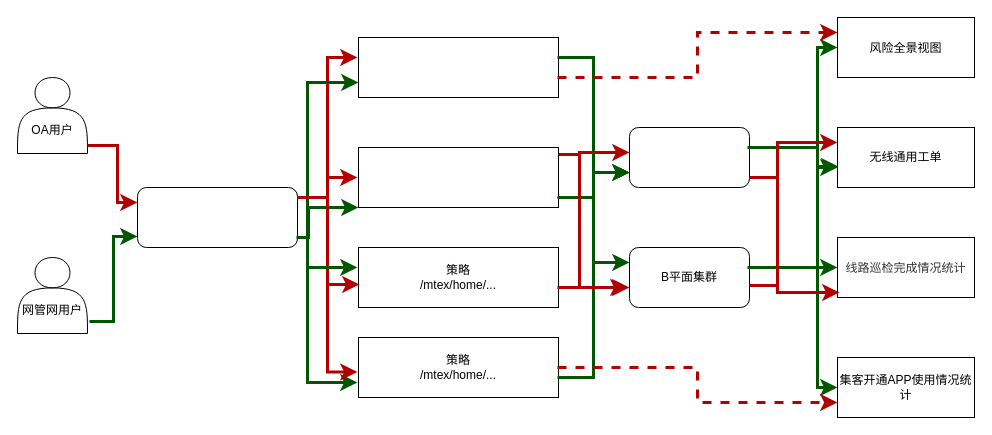
The diagram is 992 pixels wide and 435 high, and some of its shapes have lost their labels. Each missing label, with the box of its shape:
A平面集群: (628, 126, 750, 188)
https://daiwei.gmcc.net:8081 NGINX软负载: (136, 186, 298, 248)
策略 /mtex/home/879bafc5-9133-eedd-b046-2f09c791c6e6: (358, 36, 558, 98)
策略 /mtex/home/976b921f-6555-11e7-add8-f02fa7c2cfcd: (358, 146, 558, 208)
